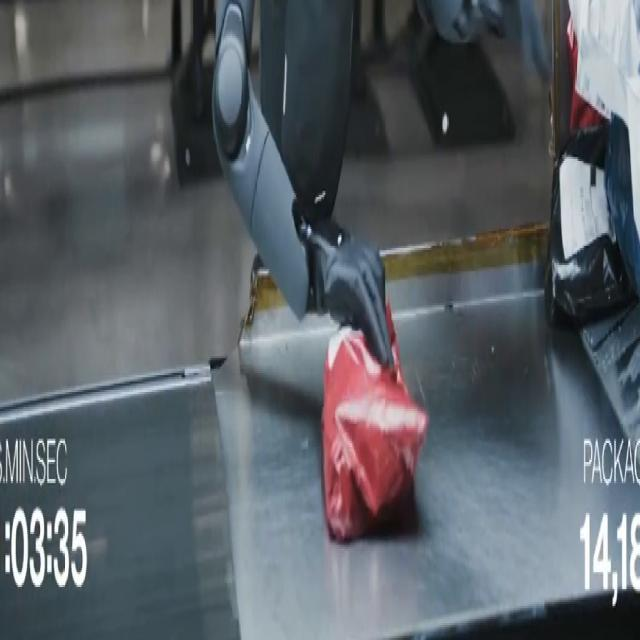package: (322, 304, 427, 542), (545, 126, 633, 328), (569, 0, 639, 241), (605, 115, 639, 294), (567, 17, 604, 131)
